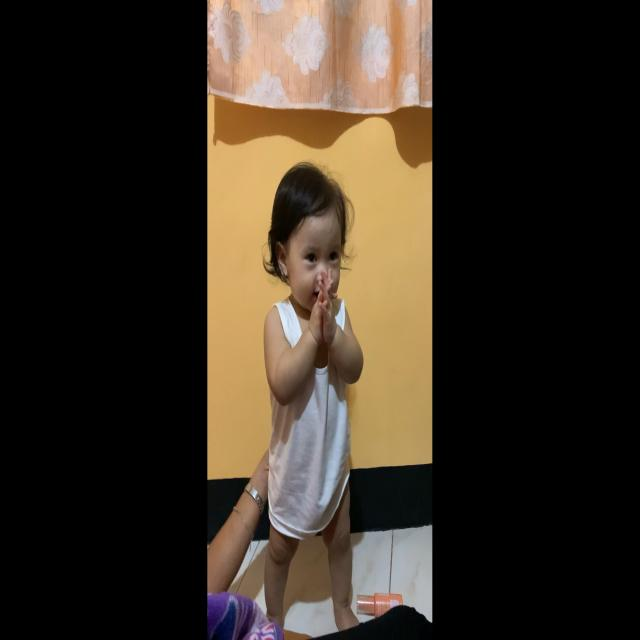child: (262, 160, 364, 633)
